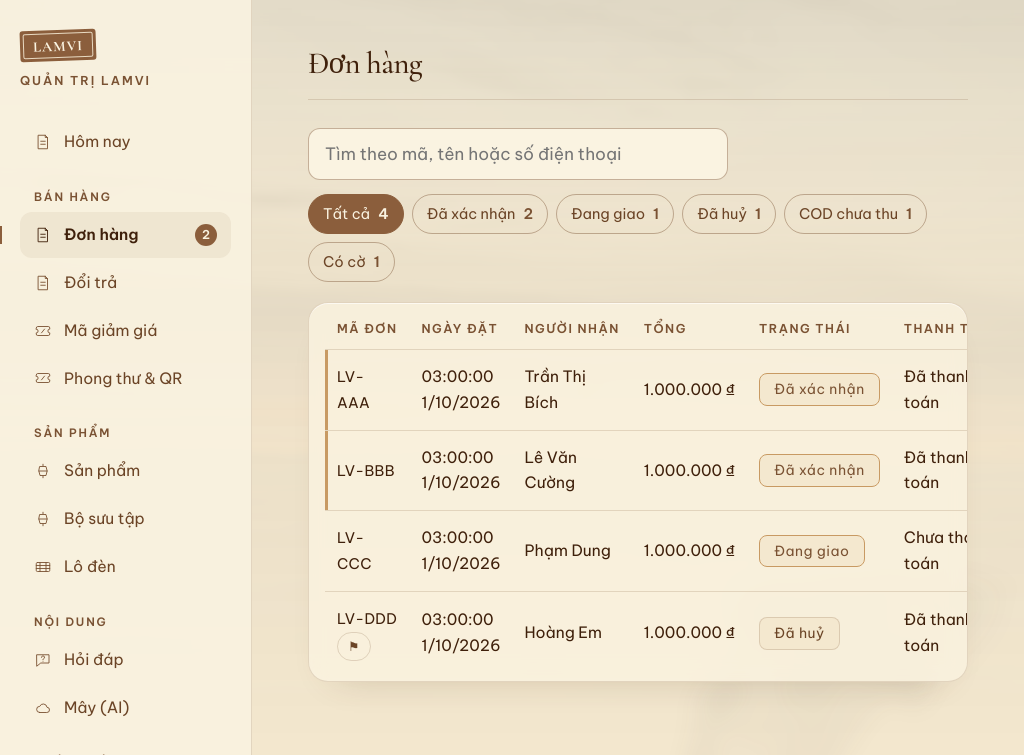
Test: OrdersPage — chip và tìm kiếm › tìm kiếm kết hợp với chip
Expected: the text "LV-AAA" is shown, [337,367,370,412]
Click the button "Đã xác nhận 2" at point(480, 214), box [412,194,548,234]
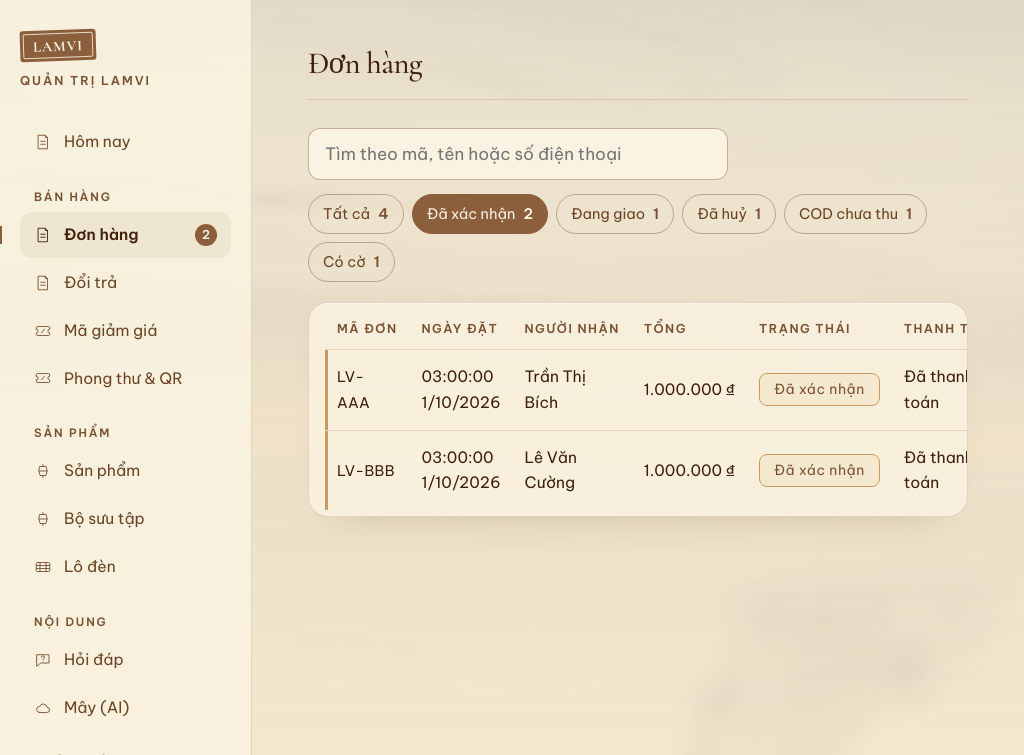
Type "Phạm" into the search field at point(518, 154), box [308,128,728,180]
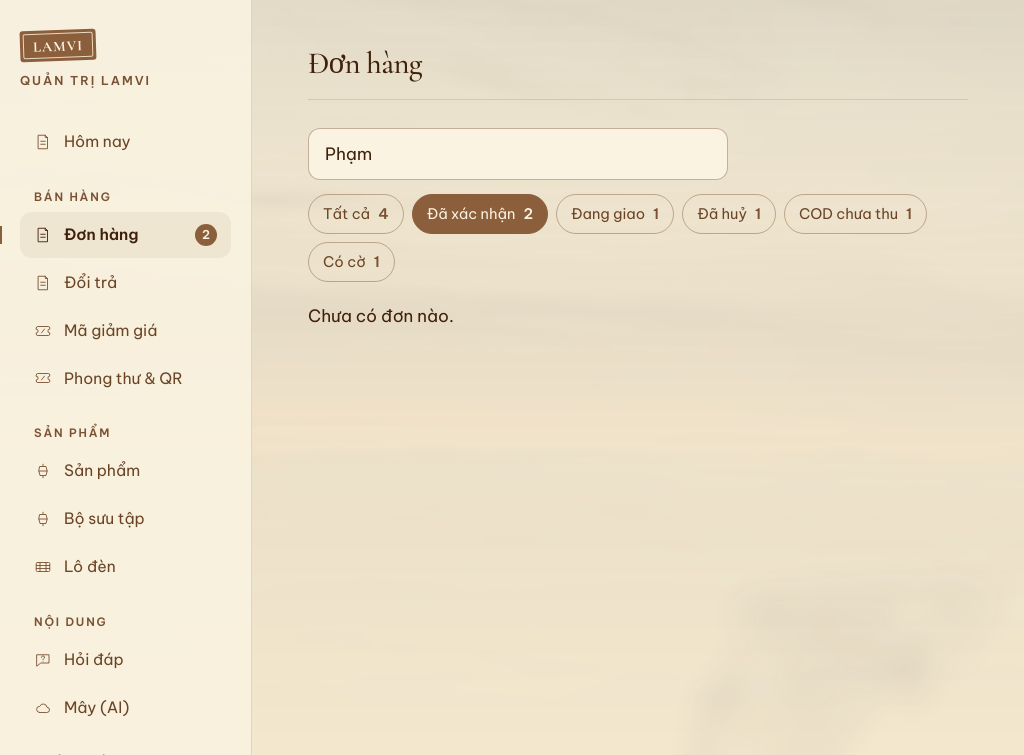
Now the text "Chưa có đơn nào." is shown, box [308,305,454,327]
